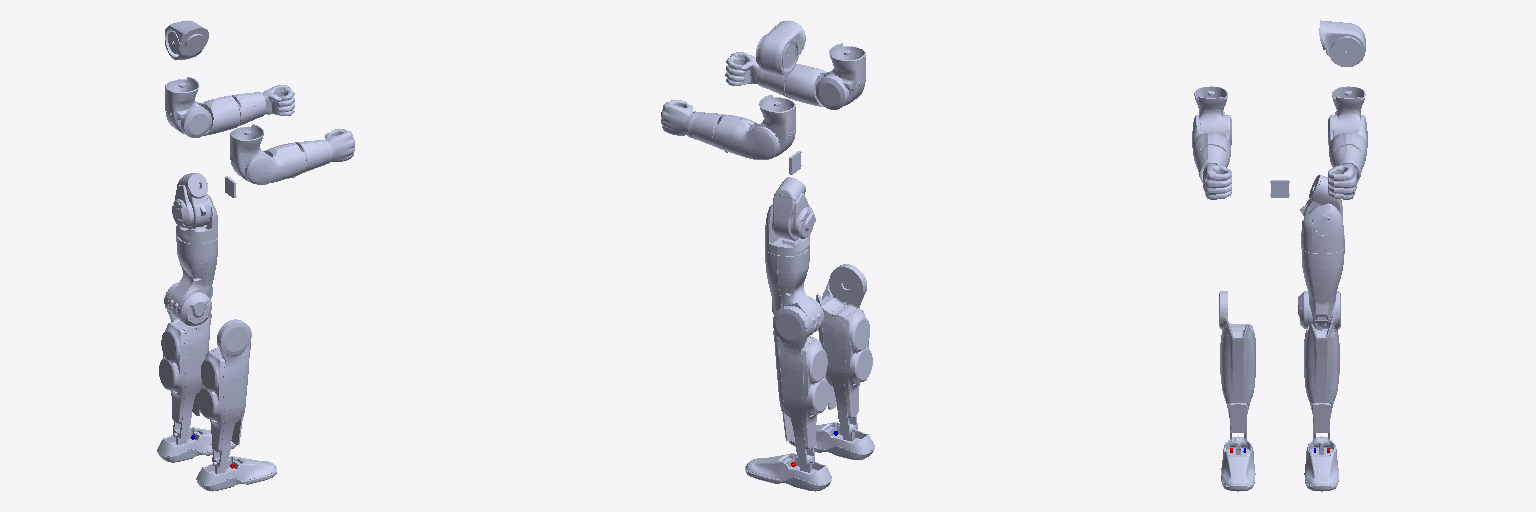
--- Facts derived from the render (not from the file) ---
Views: 3 orthographic renders of the robot side by side, from view 1: azimuth 30°, elevation 25°; view 2: azimuth 150°, elevation 25°; view 3: azimuth 270°, elevation 25°.
Model R1_AIR with 34 links and 33 joints (20 revolute, 13 fixed), rooted at pelvis_link, posed every joint at zero.
Links seen in each view (by area): view 1: right_knee_link, left_knee_link, right_elbow_link, left_hip_yaw_link, left_elbow_link, left_shoulder_yaw_link, left_hip_pitch_link, right_ankle_roll_link, left_shoulder_pitch_link, left_ankle_roll_link, right_shoulder_yaw_link, left_hip_roll_link; view 2: right_knee_link, left_knee_link, left_elbow_link, right_elbow_link, left_hip_yaw_link, right_shoulder_yaw_link, left_hip_pitch_link, left_shoulder_pitch_link, left_ankle_roll_link, right_ankle_roll_link, left_shoulder_yaw_link, left_hip_roll_link; view 3: right_knee_link, left_knee_link, left_hip_yaw_link, left_elbow_link, right_elbow_link, left_hip_roll_link, left_shoulder_pitch_link, left_shoulder_yaw_link, right_shoulder_yaw_link, left_ankle_roll_link, right_ankle_roll_link, left_hip_pitch_link.
Boxes of the visible links, x1,y1,x2,y2 form: right_knee_link: (198,319,251,469); left_knee_link: (159,281,211,440); right_elbow_link: (246,129,354,184); left_hip_yaw_link: (168,236,217,326); left_elbow_link: (197,85,294,135); left_shoulder_yaw_link: (165,77,211,137); left_hip_pitch_link: (172,173,211,228); right_ankle_roll_link: (196,456,276,491); left_shoulder_pitch_link: (165,20,208,59); left_ankle_roll_link: (157,427,236,462); right_shoulder_yaw_link: (230,124,267,181); left_hip_roll_link: (176,194,217,243); right_knee_link: (816,264,872,436); left_knee_link: (773,306,829,467); left_elbow_link: (661,100,778,159); right_elbow_link: (725,52,832,106); left_hip_yaw_link: (765,249,823,336); right_shoulder_yaw_link: (816,43,865,109); left_hip_pitch_link: (772,177,815,240); left_shoulder_pitch_link: (756,20,805,75); left_ankle_roll_link: (745,453,831,491); right_ankle_roll_link: (789,422,874,459); left_shoulder_yaw_link: (755,95,795,156); left_hip_roll_link: (765,204,809,255); right_knee_link: (1219,291,1255,446); left_knee_link: (1304,291,1340,446); left_hip_yaw_link: (1298,245,1344,330); left_elbow_link: (1328,115,1367,199); right_elbow_link: (1192,115,1231,199); left_hip_roll_link: (1301,203,1344,253); left_shoulder_pitch_link: (1319,20,1365,66); left_shoulder_yaw_link: (1328,86,1365,144); right_shoulder_yaw_link: (1194,86,1231,144); left_ankle_roll_link: (1304,440,1338,491); right_ankle_roll_link: (1221,440,1255,491); left_hip_pitch_link: (1300,175,1342,219).
Size in the robot's own frame: 0.3604 by 0.3624 by 1.03 metres.
22 mesh visuals loaded from 34 distinct referenced files (22 binary STL); not drawn: 12 (reference not matched to a file when rendering).

robot.urdf — R1_AIR:
<robot name="R1_AIR">
  <mujoco>
    <compiler meshdir="meshes" discardvisual="false"/>
  </mujoco>


  <link name="pelvis_link">
    <inertial>
      <origin xyz="0.030305 0.001648 0.202416" rpy="0 0 0"/>
      <mass value="6.988703"/>
      <inertia ixx="0.120638" ixy="0.000112" ixz="-0.001343" iyy="0.113439" iyz="0.000472" izz="0.020835"/>
    </inertial>
    <visual>
      <origin xyz="0 0 0" rpy="0 0 0"/>
      <geometry>
        <mesh filename="meshes/pelvis_link.stl"/>
      </geometry>
      <material name="blue">
        <color rgba="0.79216 0.81961 0.93333 1"/>
      </material>
    </visual>
    <collision>
      <origin xyz="0 0 0" rpy="0 0 0"/>
      <geometry>
        <mesh filename="meshes/pelvis_link.stl"/>
      </geometry>
    </collision>
  </link>


  <link name="left_hip_pitch_link">
    <inertial>
      <origin xyz="-0.003907 0.0415 -0.043716" rpy="0 0 0"/>
      <mass value="0.935482"/>
      <inertia ixx="0.001046" ixy="2.2e-05" ixz="-3.1e-05" iyy="0.000943" iyz="0.000145" izz="0.000624"/>
    </inertial>
    <visual>
      <origin xyz="0 0 0" rpy="0 0 0"/>
      <geometry>
        <mesh filename="meshes/left_hip_pitch_link.STL"/>
      </geometry>
      <material name="blue">
        <color rgba="0.79216 0.81961 0.93333 1"/>
      </material>
    </visual>
    <collision>
      <origin xyz="0 0 0" rpy="0 0 0"/>
      <geometry>
        <mesh filename="meshes/left_hip_pitch_link.STL"/>
      </geometry>
    </collision>
  </link>
  <joint name="left_hip_pitch_joint" type="revolute">
    <origin xyz="0.0325000000000034 0.0704672446672152 -0.0902350676234607" rpy="-0.436332312998619 0 0"/>
    <parent link="pelvis_link"/>
    <child link="left_hip_pitch_link"/>
    <axis xyz="0 1 0"/>
    <limit lower="-2.932153143" upper="2.548180708" effort="60" velocity="18.8"/>
  </joint>
  <link name="left_hip_roll_link">
    <inertial>
      <origin xyz="-0.008002 -0.00206 -0.032798" rpy="0 0 0"/>
      <mass value="0.207609"/>
      <inertia ixx="0.000246" ixy="-1.3e-05" ixz="-5.6e-05" iyy="0.000231" iyz="-1e-05" izz="0.000239"/>
    </inertial>
    <visual>
      <origin xyz="0 0 0" rpy="0 0 0"/>
      <geometry>
        <mesh filename="meshes/left_hip_roll_link.STL"/>
      </geometry>
      <material name="blue">
        <color rgba="0.79216 0.81961 0.93333 1"/>
      </material>
    </visual>
    <collision>
      <origin xyz="0 0 0" rpy="0 0 0"/>
      <geometry>
        <mesh filename="meshes/left_hip_roll_link.STL"/>
      </geometry>
    </collision>
  </link>
  <joint name="left_hip_roll_joint" type="revolute">
    <origin xyz="0.0248000000000053 0.0449999999999981 -0.0530000000000006" rpy="0.436332312998619 0 0"/>
    <parent link="left_hip_pitch_link"/>
    <child link="left_hip_roll_link"/>
    <axis xyz="1 0 0"/>
    <limit lower="-1.047197551" upper="1.745329252" effort="60" velocity="18.8"/>
  </joint>
  <link name="left_hip_yaw_link">
    <inertial>
      <origin xyz="-0.010059 -0.004848 -0.093609" rpy="0 0 0"/>
      <mass value="1.73967"/>
      <inertia ixx="0.008099" ixy="-0.000112" ixz="-0.001134" iyy="0.008338" iyz="-0.00058" izz="0.001513"/>
    </inertial>
    <visual>
      <origin xyz="0 0 0" rpy="0 0 0"/>
      <geometry>
        <mesh filename="meshes/left_hip_yaw_link.STL"/>
      </geometry>
      <material name="blue">
        <color rgba="0.79216 0.81961 0.93333 1"/>
      </material>
    </visual>
    <collision>
      <origin xyz="0 0 0" rpy="0 0 0"/>
      <geometry>
        <mesh filename="meshes/left_hip_yaw_link.STL"/>
      </geometry>
    </collision>
  </link>
  <joint name="left_hip_yaw_joint" type="revolute">
    <origin xyz="-0.0194507071014726 -0.000599999999990775 -0.0617999999999937" rpy="0 0 0"/>
    <parent link="left_hip_roll_link"/>
    <child link="left_hip_yaw_link"/>
    <axis xyz="0 0 1"/>
    <limit lower="-2.7402" upper="2.7402" effort="60" velocity="18.8"/>
  </joint>
  <link name="left_knee_link">
    <inertial>
      <origin xyz="-0.010632 -0.018101 -0.135947" rpy="0 0 0"/>
      <mass value="2.26585"/>
      <inertia ixx="0.01237" ixy="-4.4e-05" ixz="-0.000238" iyy="0.012604" iyz="-0.000603" izz="0.001907"/>
    </inertial>
    <visual>
      <origin xyz="0 0 0" rpy="0 0 0"/>
      <geometry>
        <mesh filename="meshes/left_knee_link.STL"/>
      </geometry>
      <material name="blue">
        <color rgba="0.79216 0.81961 0.93333 1"/>
      </material>
    </visual>
    <collision>
      <origin xyz="0 0 0" rpy="0 0 0"/>
      <geometry>
        <mesh filename="meshes/left_knee_collision.STL"/>
      </geometry>
    </collision>
  </link>
  <joint name="left_knee_joint" type="revolute">
    <origin xyz="-0.0231499999999827 0.0186600000000101 -0.159300730044995" rpy="0 0 0"/>
    <parent link="left_hip_yaw_link"/>
    <child link="left_knee_link"/>
    <axis xyz="0 1 0"/>
    <limit lower="-0.174532925" upper="2.42600766" effort="60" velocity="18.8"/>
  </joint>
  <link name="left_ankle_A_link">
    <inertial>
      <origin xyz="0.002876 0.004712 -0.001192" rpy="0 0 0"/>
      <mass value="0.047549"/>
      <inertia ixx="1.4e-05" ixy="0" ixz="0" iyy="6e-06" iyz="1e-06" izz="9e-06"/>
    </inertial>
    <visual>
      <origin xyz="0 0 0" rpy="0 0 0"/>
      <geometry>
        <mesh filename="meshes/left_ankle_A_link.STL"/>
      </geometry>
      <material name="A">
        <color rgba="1 0 0 1"/>
      </material>
    </visual>
    <collision>
      <origin xyz="0 0 0" rpy="0 0 0"/>
      <geometry>
        <mesh filename="meshes/left_ankle_A_link.STL"/>
      </geometry>
    </collision>
  </link>
  <joint name="left_ankle_A_joint" type="fixed">
    <origin xyz="0.0137908367226444 -0.020581073000019 -0.0965262033774272" rpy="0 0.0893608577021168 0"/>
    <parent link="left_knee_link"/>
    <child link="left_ankle_A_link"/>
    <axis xyz="1 0 0"/>
    <limit lower="-0.89675" upper="1.4099" effort="33" velocity="33.4"/>
  </joint>
  <link name="left_ankle_A_rod_link">
    <inertial>
      <origin xyz="0 0 0" rpy="0 0 0"/>
      <mass value="0.006909"/>
      <inertia ixx="1e-11" ixy="0" ixz="0" iyy="1e-11" iyz="0" izz="1e-11"/>
    </inertial>
    <visual>
      <origin xyz="0 0 0" rpy="0 0 0"/>
      <geometry>
        <mesh filename="meshes/left_ankle_A_rod_link.STL"/>
      </geometry>
      <material name="A">
        <color rgba="1 0 0 1"/>
      </material>
    </visual>
  </link>
  <joint name="left_ankle_A_rod_joint" type="fixed">
    <origin xyz="0.0129999999999986 0.0159961931559284 -0.00404620865977823" rpy="0 0 0"/>
    <parent link="left_ankle_A_link"/>
    <child link="left_ankle_A_rod_link"/>
    <axis xyz="1 0 0"/>
    <limit lower="0" upper="0" effort="0" velocity="0"/>
  </joint>
  <link name="left_ankle_B_link">
    <inertial>
      <origin xyz="0.002876 -0.004711 -0.001195" rpy="0 0 0"/>
      <mass value="0.047549"/>
      <inertia ixx="1.4e-05" ixy="0" ixz="0" iyy="6e-06" iyz="-1e-06" izz="9e-06"/>
    </inertial>
    <visual>
      <origin xyz="0 0 0" rpy="0 0 0"/>
      <geometry>
        <mesh filename="meshes/left_ankle_B_link.STL"/>
      </geometry>
      <material name="B">
        <color rgba="0 0 1 1"/>
      </material>
    </visual>
    <collision>
      <origin xyz="0 0 0" rpy="0 0 0"/>
      <geometry>
        <mesh filename="meshes/left_ankle_B_link.STL"/>
      </geometry>
    </collision>
  </link>
  <joint name="left_ankle_B_joint" type="fixed">
    <origin xyz="0.0078562453629065 -0.0205810730000191 -0.162760866676519" rpy="0 0.0893608577021174 0"/>
    <parent link="left_knee_link"/>
    <child link="left_ankle_B_link"/>
    <axis xyz="1 0 0"/>
    <limit lower="-1.3999" upper="0.92328" effort="33" velocity="33.4"/>
  </joint>
  <link name="left_ankle_B_rod_link">
    <inertial>
      <origin xyz="0 0 0" rpy="0 0 0"/>
      <mass value="0.006909"/>
      <inertia ixx="1e-11" ixy="0" ixz="0" iyy="1e-11" iyz="0" izz="1e-11"/>
    </inertial>
    <visual>
      <origin xyz="0 0 0" rpy="0 0 0"/>
      <geometry>
        <mesh filename="meshes/left_ankle_B_rod_link.STL"/>
      </geometry>
      <material name="B">
        <color rgba="0 0 1 1"/>
      </material>
    </visual>
  </link>
  <joint name="left_ankle_B_rod_joint" type="fixed">
    <origin xyz="0.0129999999999971 -0.0159932565774738 -0.00405780039512127" rpy="0 0 0"/>
    <parent link="left_ankle_B_link"/>
    <child link="left_ankle_B_rod_link"/>
    <axis xyz="1 0 0"/>
    <limit lower="0" upper="0" effort="0" velocity="0"/>
  </joint>
  <link name="left_ankle_pitch_link">
    <inertial>
      <origin xyz="-0.000104 0 -0.00772" rpy="0 0 0"/>
      <mass value="0.071231"/>
      <inertia ixx="7e-06" ixy="0" ixz="0" iyy="1.2e-05" iyz="0" izz="7e-06"/>
    </inertial>
    <visual>
      <origin xyz="0 0 0" rpy="0 0 0"/>
      <geometry>
        <mesh filename="meshes/left_ankle_pitch_link.STL"/>
      </geometry>
      <material name="blue">
        <color rgba="0.79216 0.81961 0.93333 1"/>
      </material>
    </visual>
  </link>
  <joint name="left_ankle_pitch_joint" type="revolute">
    <origin xyz="-0.0168138890944356 -0.0205810730000241 -0.309174756016388" rpy="0 0 0"/>
    <parent link="left_knee_link"/>
    <child link="left_ankle_pitch_link"/>
    <axis xyz="0 1 0"/>
    <limit lower="-0.87266" upper="0.57596" effort="50" velocity="30"/>
  </joint>
  <link name="left_ankle_roll_link">
    <inertial>
      <origin xyz="0.029823 0 -0.033123" rpy="0 0 0"/>
      <mass value="0.473048"/>
      <inertia ixx="0.000232" ixy="0" ixz="8.9e-05" iyy="0.001207" iyz="0" izz="0.001259"/>
    </inertial>
    <visual>
      <origin xyz="0 0 0" rpy="0 0 0"/>
      <geometry>
        <mesh filename="meshes/left_ankle_roll_link.STL"/>
      </geometry>
      <material name="blue">
        <color rgba="0.79216 0.81961 0.93333 1"/>
      </material>
    </visual>
    <collision>
      <origin xyz="0 0 0" rpy="0 0 0"/>
      <geometry>
        <mesh filename="meshes/left_ankle_roll_link.STL"/>
      </geometry>
    </collision>
  </link>
  <joint name="left_ankle_roll_joint" type="revolute">
    <origin xyz="0 0 0" rpy="0 0 0"/>
    <parent link="left_ankle_pitch_link"/>
    <child link="left_ankle_roll_link"/>
    <axis xyz="1 0 0"/>
    <limit lower="-0.2618" upper="0.2618" effort="50" velocity="30"/>
  </joint>
  <link name="left_ankle_constraint_A_link">
    <inertial>
      <origin xyz="0 0 0" rpy="0 0 0"/>
      <mass value="0.00432"/>
      <inertia ixx="1e-11" ixy="0" ixz="0" iyy="1e-11" iyz="0" izz="1e-11"/>
    </inertial>
    <visual>
      <origin xyz="0 0 0" rpy="0 0 0"/>
      <geometry>
        <mesh filename="meshes/left_ankle_constraint_A_link.STL"/>
      </geometry>
      <material name="A">
        <color rgba="1 0 0 1"/>
      </material>
    </visual>
    <collision>
      <origin xyz="0 0 0" rpy="0 0 0"/>
      <geometry>
        <mesh filename="meshes/left_ankle_constraint_A_link.STL"/>
      </geometry>
    </collision>
  </link>
  <joint name="left_ankle_constraint_A_joint" type="fixed">
    <origin xyz="0.021 0.014 -0.0094" rpy="0 0 0"/>
    <parent link="left_ankle_roll_link"/>
    <child link="left_ankle_constraint_A_link"/>
    <axis xyz="0 1 0"/>
    <limit lower="0" upper="0" effort="0" velocity="0"/>
  </joint>
  <link name="left_ankle_constraint_B_link">
    <inertial>
      <origin xyz="0 0 0" rpy="0 0 0"/>
      <mass value="0.00432"/>
      <inertia ixx="1e-11" ixy="0" ixz="0" iyy="1e-11" iyz="0" izz="1e-11"/>
    </inertial>
    <visual>
      <origin xyz="0 0 0" rpy="0 0 0"/>
      <geometry>
        <mesh filename="meshes/left_ankle_constraint_B_link.STL"/>
      </geometry>
      <material name="B">
        <color rgba="0 0 1 1"/>
      </material>
    </visual>
    <collision>
      <origin xyz="0 0 0" rpy="0 0 0"/>
      <geometry>
        <mesh filename="meshes/left_ankle_constraint_B_link.STL"/>
      </geometry>
    </collision>
  </link>
  <joint name="left_ankle_constraint_B_joint" type="fixed">
    <origin xyz="0.021 -0.014 -0.0094" rpy="0 0 0"/>
    <parent link="left_ankle_roll_link"/>
    <child link="left_ankle_constraint_B_link"/>
    <axis xyz="0 1 0"/>
    <limit lower="0" upper="0" effort="0" velocity="0"/>
  </joint>
  <link name="right_hip_pitch_link">
    <inertial>
      <origin xyz="-0.003907 -0.0415 -0.043716" rpy="0 0 0"/>
      <mass value="0.935482"/>
      <inertia ixx="0.001046" ixy="-2.2e-05" ixz="-3.1e-05" iyy="0.000943" iyz="-0.000145" izz="0.000624"/>
    </inertial>
    <visual>
      <origin xyz="0 0 0" rpy="0 0 0"/>
      <geometry>
        <mesh filename="meshes/right_hip_pitch_link.STL"/>
      </geometry>
      <material name="blue">
        <color rgba="0.79216 0.81961 0.93333 1"/>
      </material>
    </visual>
    <collision>
      <origin xyz="0 0 0" rpy="0 0 0"/>
      <geometry>
        <mesh filename="meshes/right_hip_pitch_link.STL"/>
      </geometry>
    </collision>
  </link>
  <joint name="right_hip_pitch_joint" type="revolute">
    <origin xyz="0.0324999999999944 -0.0704672446672271 -0.0902350676234561" rpy="0.436332312998556 0 0"/>
    <parent link="pelvis_link"/>
    <child link="right_hip_pitch_link"/>
    <axis xyz="0 1 0"/>
    <limit lower="-2.932153143" upper="2.548180708" effort="60" velocity="18.8"/>
  </joint>
  <link name="right_hip_roll_link">
    <inertial>
      <origin xyz="-0.008002 0.00206 -0.032798" rpy="0 0 0"/>
      <mass value="0.207609"/>
      <inertia ixx="0.000246" ixy="1.3e-05" ixz="-5.6e-05" iyy="0.000231" iyz="1e-05" izz="0.000239"/>
    </inertial>
    <visual>
      <origin xyz="0 0 0" rpy="0 0 0"/>
      <geometry>
        <mesh filename="meshes/right_hip_roll_link.STL"/>
      </geometry>
      <material name="blue">
        <color rgba="0.79216 0.81961 0.93333 1"/>
      </material>
    </visual>
    <collision>
      <origin xyz="0 0 0" rpy="0 0 0"/>
      <geometry>
        <mesh filename="meshes/right_hip_roll_link.STL"/>
      </geometry>
    </collision>
  </link>
  <joint name="right_hip_roll_joint" type="revolute">
    <origin xyz="0.0248000000000144 -0.044999999999989 -0.0530000000000113" rpy="-0.436332312998556 0 0"/>
    <parent link="right_hip_pitch_link"/>
    <child link="right_hip_roll_link"/>
    <axis xyz="1 0 0"/>
    <limit lower="-1.745329252" upper="1.047197551" effort="60" velocity="18.8"/>
  </joint>
  <link name="right_hip_yaw_link">
    <inertial>
      <origin xyz="-0.010059 0.004848 -0.093609" rpy="0 0 0"/>
      <mass value="1.73967"/>
      <inertia ixx="0.008099" ixy="0.000112" ixz="-0.001134" iyy="0.008338" iyz="0.00058" izz="0.001513"/>
    </inertial>
    <visual>
      <origin xyz="0 0 0" rpy="0 0 0"/>
      <geometry>
        <mesh filename="meshes/right_hip_yaw_link.STL"/>
      </geometry>
      <material name="blue">
        <color rgba="0.79216 0.81961 0.93333 1"/>
      </material>
    </visual>
    <collision>
      <origin xyz="0 0 0" rpy="0 0 0"/>
      <geometry>
        <mesh filename="meshes/right_hip_yaw_link.STL"/>
      </geometry>
    </collision>
  </link>
  <joint name="right_hip_yaw_joint" type="revolute">
    <origin xyz="-0.0194507071014726 0.000599999999990622 -0.0617999999999935" rpy="0 0 0"/>
    <parent link="right_hip_roll_link"/>
    <child link="right_hip_yaw_link"/>
    <axis xyz="0 0 1"/>
    <limit lower="-2.7402" upper="2.7402" effort="60" velocity="18.8"/>
  </joint>
  <link name="right_knee_link">
    <inertial>
      <origin xyz="-0.010632 0.018101 -0.135947" rpy="0 0 0"/>
      <mass value="2.26585"/>
      <inertia ixx="0.01237" ixy="4.4e-05" ixz="-0.000238" iyy="0.012604" iyz="0.000603" izz="0.001907"/>
    </inertial>
    <visual>
      <origin xyz="0 0 0" rpy="0 0 0"/>
      <geometry>
        <mesh filename="meshes/right_knee_link.STL"/>
      </geometry>
      <material name="blue">
        <color rgba="0.79216 0.81961 0.93333 1"/>
      </material>
    </visual>
    <collision>
      <origin xyz="0 0 0" rpy="0 0 0"/>
      <geometry>
        <mesh filename="meshes/right_knee_collision.STL"/>
      </geometry>
    </collision>
  </link>
  <joint name="right_knee_joint" type="revolute">
    <origin xyz="-0.0231499999999827 -0.0186600000000101 -0.159300730044995" rpy="0 0 0"/>
    <parent link="right_hip_yaw_link"/>
    <child link="right_knee_link"/>
    <axis xyz="0 1 0"/>
    <limit lower="-0.17453" upper="2.42600766" effort="60" velocity="18.8"/>
  </joint>
  <link name="right_ankle_A_link">
    <inertial>
      <origin xyz="0.002876 -0.004712 -0.001192" rpy="0 0 0"/>
      <mass value="0.047549"/>
      <inertia ixx="1.4e-05" ixy="0" ixz="0" iyy="6e-06" iyz="-1e-06" izz="9e-06"/>
    </inertial>
    <visual>
      <origin xyz="0 0 0" rpy="0 0 0"/>
      <geometry>
        <mesh filename="meshes/right_ankle_A_link.STL"/>
      </geometry>
      <material name="A">
        <color rgba="1 0 0 1"/>
      </material>
    </visual>
    <collision>
      <origin xyz="0 0 0" rpy="0 0 0"/>
      <geometry>
        <mesh filename="meshes/right_ankle_A_link.STL"/>
      </geometry>
    </collision>
  </link>
  <joint name="right_ankle_A_joint" type="fixed">
    <origin xyz="0.0137908367226438 0.0205810730000096 -0.0965262033774182" rpy="0 0.0893608577021168 0"/>
    <parent link="right_knee_link"/>
    <child link="right_ankle_A_link"/>
    <axis xyz="1 0 0"/>
    <limit lower="-1.4099" upper="0.89675" effort="33" velocity="33.4"/>
  </joint>
  <link name="right_ankle_A_rod_link">
    <inertial>
      <origin xyz="0 0 0" rpy="0 0 0"/>
      <mass value="0.006909"/>
      <inertia ixx="1e-11" ixy="0" ixz="0" iyy="1e-11" iyz="0" izz="1e-11"/>
    </inertial>
    <visual>
      <origin xyz="0 0 0" rpy="0 0 0"/>
      <geometry>
        <mesh filename="meshes/right_ankle_A_rod_link.STL"/>
      </geometry>
      <material name="A">
        <color rgba="1 0 0 1"/>
      </material>
    </visual>
  </link>
  <joint name="right_ankle_A_rod_joint" type="fixed">
    <origin xyz="0.0130000000000001 -0.0159961931559189 -0.00404620865978778" rpy="0 0 0"/>
    <parent link="right_ankle_A_link"/>
    <child link="right_ankle_A_rod_link"/>
    <axis xyz="1 0 0"/>
    <limit lower="0" upper="0" effort="0" velocity="0"/>
  </joint>
  <link name="right_ankle_B_link">
    <inertial>
      <origin xyz="0.002876 0.004711 -0.001195" rpy="0 0 0"/>
      <mass value="0.047549"/>
      <inertia ixx="1.4e-05" ixy="0" ixz="0" iyy="6e-06" iyz="1e-06" izz="9e-06"/>
    </inertial>
    <visual>
      <origin xyz="0 0 0" rpy="0 0 0"/>
      <geometry>
        <mesh filename="meshes/right_ankle_B_link.STL"/>
      </geometry>
      <material name="B">
        <color rgba="0 0 1 1"/>
      </material>
    </visual>
    <collision>
      <origin xyz="0 0 0" rpy="0 0 0"/>
      <geometry>
        <mesh filename="meshes/right_ankle_B_link.STL"/>
      </geometry>
    </collision>
  </link>
  <joint name="right_ankle_B_joint" type="fixed">
    <origin xyz="0.00785624536290441 0.0205810730000075 -0.16276086667651" rpy="0 0.0893608577021174 0"/>
    <parent link="right_knee_link"/>
    <child link="right_ankle_B_link"/>
    <axis xyz="1 0 0"/>
    <limit lower="-0.92328" upper="1.3999" effort="33" velocity="33.4"/>
  </joint>
  <link name="right_ankle_B_rod_link">
    <inertial>
      <origin xyz="0 0 0" rpy="0 0 0"/>
      <mass value="0.006909"/>
      <inertia ixx="1e-11" ixy="0" ixz="0" iyy="1e-11" iyz="0" izz="1e-11"/>
    </inertial>
    <visual>
      <origin xyz="0 0 0" rpy="0 0 0"/>
      <geometry>
        <mesh filename="meshes/right_ankle_B_rod_link.STL"/>
      </geometry>
      <material name="B">
        <color rgba="0 0 1 1"/>
      </material>
    </visual>
  </link>
  <joint name="right_ankle_B_rod_joint" type="fixed">
    <origin xyz="0.0130000000000001 0.0159932565774854 -0.00405780039513126" rpy="0 0 0"/>
    <parent link="right_ankle_B_link"/>
    <child link="right_ankle_B_rod_link"/>
    <axis xyz="1 0 0"/>
    <limit lower="0" upper="0" effort="0" velocity="0"/>
  </joint>
  <link name="right_ankle_pitch_link">
    <inertial>
      <origin xyz="-0.000104 0 -0.00772" rpy="0 0 0"/>
      <mass value="0.071231"/>
      <inertia ixx="7e-06" ixy="0" ixz="0" iyy="1.2e-05" iyz="0" izz="7e-06"/>
    </inertial>
    <visual>
      <origin xyz="0 0 0" rpy="0 0 0"/>
      <geometry>
        <mesh filename="meshes/right_ankle_pitch_link.STL"/>
      </geometry>
      <material name="blue">
        <color rgba="0.79216 0.81961 0.93333 1"/>
      </material>
    </visual>
  </link>
  <joint name="right_ankle_pitch_joint" type="revolute">
    <origin xyz="-0.016813889094435 0.0205810729999964 -0.309174756016406" rpy="0 0 0"/>
    <parent link="right_knee_link"/>
    <child link="right_ankle_pitch_link"/>
    <axis xyz="0 1 0"/>
    <limit lower="-0.87266" upper="0.57596" effort="50" velocity="30"/>
  </joint>
  <link name="right_ankle_roll_link">
    <inertial>
      <origin xyz="0.029823 0 -0.033123" rpy="0 0 0"/>
      <mass value="0.473048"/>
      <inertia ixx="0.000232" ixy="0" ixz="8.9e-05" iyy="0.001207" iyz="0" izz="0.001259"/>
    </inertial>
    <visual>
      <origin xyz="0 0 0" rpy="0 0 0"/>
      <geometry>
        <mesh filename="meshes/right_ankle_roll_link.STL"/>
      </geometry>
      <material name="blue">
        <color rgba="0.79216 0.81961 0.93333 1"/>
      </material>
    </visual>
    <collision>
      <origin xyz="0 0 0" rpy="0 0 0"/>
      <geometry>
        <mesh filename="meshes/right_ankle_roll_link.STL"/>
      </geometry>
    </collision>
  </link>
  <joint name="right_ankle_roll_joint" type="revolute">
    <origin xyz="0 0 0" rpy="0 0 0"/>
    <parent link="right_ankle_pitch_link"/>
    <child link="right_ankle_roll_link"/>
    <axis xyz="1 0 0"/>
    <limit lower="-0.261799388" upper="0.261799388" effort="50" velocity="30"/>
  </joint>
  <link name="right_ankle_constraint_A_link">
    <inertial>
      <origin xyz="0 0 0" rpy="0 0 0"/>
      <mass value="0.00432"/>
      <inertia ixx="1e-11" ixy="0" ixz="0" iyy="1e-11" iyz="0" izz="1e-11"/>
    </inertial>
    <visual>
      <origin xyz="0 0 0" rpy="0 0 0"/>
      <geometry>
        <mesh filename="meshes/right_ankle_constraint_A_link.STL"/>
      </geometry>
      <material name="A">
        <color rgba="1 0 0 1"/>
      </material>
    </visual>
    <collision>
      <origin xyz="0 0 0" rpy="0 0 0"/>
      <geometry>
        <mesh filename="meshes/right_ankle_constraint_A_link.STL"/>
      </geometry>
    </collision>
  </link>
  <joint name="right_ankle_constraint_A_joint" type="fixed">
    <origin xyz="0.021 -0.014 -0.0094" rpy="0 0 0"/>
    <parent link="right_ankle_roll_link"/>
    <child link="right_ankle_constraint_A_link"/>
    <axis xyz="0 1 0"/>
    <limit lower="0" upper="0" effort="0" velocity="0"/>
  </joint>
  <link name="right_ankle_constraint_B_link">
    <inertial>
      <origin xyz="0 0 0" rpy="0 0 0"/>
      <mass value="0.00432"/>
      <inertia ixx="1e-11" ixy="0" ixz="0" iyy="1e-11" iyz="0" izz="1e-11"/>
    </inertial>
    <visual>
      <origin xyz="0 0 0" rpy="0 0 0"/>
      <geometry>
        <mesh filename="meshes/right_ankle_constraint_B_link.STL"/>
      </geometry>
      <material name="B">
        <color rgba="0 0 1 1"/>
      </material>
    </visual>
    <collision>
      <origin xyz="0 0 0" rpy="0 0 0"/>
      <geometry>
        <mesh filename="meshes/right_ankle_constraint_B_link.STL"/>
      </geometry>
    </collision>
  </link>
  <joint name="right_ankle_constraint_B_joint" type="fixed">
    <origin xyz="0.021 0.014 -0.0094" rpy="0 0 0"/>
    <parent link="right_ankle_roll_link"/>
    <child link="right_ankle_constraint_B_link"/>
    <axis xyz="0 1 0"/>
    <limit lower="0" upper="0" effort="0" velocity="0"/>
  </joint>
  <link name="imu_in_pelvis_link">
    <inertial>
      <origin xyz="-0.001988 0.000572 0.014086" rpy="0 0 0"/>
      <mass value="0.00319"/>
      <inertia ixx="7.6e-07" ixy="0" ixz="0" iyy="3.9e-07" iyz="0" izz="3.8e-07"/>
    </inertial>
    <visual>
      <origin xyz="0 0 0" rpy="0 0 0"/>
      <geometry>
        <mesh filename="meshes/imu_in_pelvis_link.STL"/>
      </geometry>
      <material name="blue">
        <color rgba="0.79216 0.81961 0.93333 1"/>
      </material>
    </visual>
    <collision>
      <origin xyz="0 0 0" rpy="0 0 0"/>
      <geometry>
        <mesh filename="meshes/imu_in_pelvis_link.STL"/>
      </geometry>
    </collision>
  </link>
  <joint name="imu_in_pelvis_joint" type="fixed">
    <origin xyz="0.0762024823417637 2.19914456711555E-05 -0.0884314643766222" rpy="0 0 0"/>
    <parent link="pelvis_link"/>
    <child link="imu_in_pelvis_link"/>
    <axis xyz="1 0 0"/>
    <limit lower="0" upper="0" effort="0" velocity="0"/>
  </joint>


  <link name="left_shoulder_pitch_link">
    <inertial>
      <origin xyz="0.00294386 0.04476868 -0.02286868" rpy="0 0 0"/>
      <mass value="0.83794992"/>
      <inertia ixx="0.00066072" ixy="-0.00000492" ixz="0.00001580" iyy="0.00060170" iyz="0.00005557" izz="0.00057741"/>
    </inertial>
    <visual>
      <origin xyz="0 0 0" rpy="0 0 0"/>
      <geometry>
        <mesh filename="meshes/left_shoulder_pitch_link.stl"/>
      </geometry>
      <material name="blue">
        <color rgba="0.79216 0.81961 0.93333 1"/>
      </material>
    </visual>
    <collision>
      <origin xyz="0 0 0" rpy="0 0 0"/>
      <geometry>
        <mesh filename="meshes/left_shoulder_pitch_link.stl"/>
      </geometry>
    </collision>
  </link>
  <joint name="left_shoulder_pitch_joint" type="revolute">
    <origin xyz="0.0325 0.085687 0.24648" rpy="0.26187 0 0"/>
    <parent link="pelvis_link"/>
    <child link="left_shoulder_pitch_link"/>
    <axis xyz="0 1 0"/>
    <limit lower="-3.1416" upper="2.0944" effort="60" velocity="18.8"/>
  </joint>
  <link name="left_shoulder_roll_link">
    <inertial>
      <origin xyz="-0.037828 0.003967 -0.066496" rpy="0 0 0"/>
      <mass value="0.740212"/>
      <inertia ixx="0.000971" ixy="-0.000004" ixz="0.000101" iyy="0.001089" iyz="0.000022" izz="0.000573"/>
    </inertial>
    <visual>
      <origin xyz="0 0 0" rpy="0 0 0"/>
      <geometry>
        <mesh filename="meshes/left_shoulder_roll_link.stl"/>
      </geometry>
      <material name="blue">
        <color rgba="0.79216 0.81961 0.93333 1"/>
      </material>
    </visual>
    <collision>
      <origin xyz="0 0 0" rpy="0 0 0"/>
      <geometry>
        <mesh filename="meshes/left_shoulder_roll_link.stl"/>
      </geometry>
    </collision>
  </link>
  <joint name="left_shoulder_roll_joint" type="revolute">
    <origin xyz="0.0344500000000021 0.0471317325129909 -0.0256931311797859" rpy="-0.261872914022148 0 0"/>
    <parent link="left_shoulder_pitch_link"/>
    <child link="left_shoulder_roll_link"/>
    <axis xyz="1 0 0"/>
    <limit lower="-0.22689" upper="2.4784" effort="60" velocity="18.8"/>
  </joint>
  <link name="left_shoulder_yaw_link">
    <inertial>
      <origin xyz="0.013143 -0.004355 -0.072948" rpy="0 0 0"/>
      <mass value="0.738441"/>
      <inertia ixx="0.000829" ixy="0.000015" ixz="0.000108" iyy="0.000852" iyz="-0.000035" izz="0.000469"/>
    </inertial>
    <visual>
      <origin xyz="0 0 0" rpy="0 0 0"/>
      <geometry>
        <mesh filename="meshes/left_shoulder_yaw_link.stl"/>
      </geometry>
      <material name="blue">
        <color rgba="0.79216 0.81961 0.93333 1"/>
      </material>
    </visual>
    <collision>
      <origin xyz="0 0 0" rpy="0 0 0"/>
      <geometry>
        <mesh filename="meshes/left_shoulder_yaw_link.stl"/>
      </geometry>
    </collision>
  </link>
  <joint name="left_shoulder_yaw_joint" type="revolute">
    <origin xyz="-0.0344499999999999 0.004299999999997 -0.108349999999997" rpy="0 0 0"/>
    <parent link="left_shoulder_roll_link"/>
    <child link="left_shoulder_yaw_link"/>
    <axis xyz="0 0 1"/>
    <limit lower="-1.9199" upper="1.9199" effort="33" velocity="33.4"/>
  </joint>
  <link name="left_elbow_link">
    <inertial>
      <origin xyz="0.147283  -0.026821 -0.010613" rpy="0 0 0"/>
      <mass value="0.986213"/>
      <inertia ixx="0.000680" ixy="0.000581" ixz="-0.000026" iyy="0.005824" iyz="-0.000003" izz="0.005872"/>
    </inertial>
    <visual>
      <origin xyz="0 0 0" rpy="0 0 0"/>
      <geometry>
        <mesh filename="meshes/left_elbow_link.stl"/>
      </geometry>
      <material name="blue">
        <color rgba="0.79216 0.81961 0.93333 1"/>
      </material>
    </visual>
    <collision>
      <origin xyz="0 0 0" rpy="0 0 0"/>
      <geometry>
        <mesh filename="meshes/left_elbow_link.stl"/>
      </geometry>
    </collision>
  </link>
  <joint name="left_elbow_joint" type="revolute">
    <origin xyz="0.0161914697568633 0.026460525477912 -0.0828584390386664" rpy="0 0 0"/>
    <parent link="left_shoulder_yaw_link"/>
    <child link="left_elbow_link"/>
    <axis xyz="0 1 0"/>
    <limit lower="-0.97564" upper="2.1852" effort="33" velocity="33.4"/>
  </joint>
  <link name="right_shoulder_pitch_link">
    <inertial>
      <origin xyz="0.00294386 -0.04476868 -0.02286868" rpy="0 0 0"/>
      <mass value="0.83794992"/>
      <inertia ixx="0.00066072" ixy="0.00000492" ixz="0.00001580" iyy="0.00060170" iyz="-0.00005557" izz="0.00057741"/>
    </inertial>
    <visual>
      <origin xyz="0 0 0" rpy="0 0 0"/>
      <geometry>
        <mesh filename="meshes/right_shoulder_pitch_link.stl"/>
      </geometry>
      <material name="blue">
        <color rgba="0.79216 0.81961 0.93333 1"/>
      </material>
    </visual>
    <collision>
      <origin xyz="0 0 0" rpy="0 0 0"/>
      <geometry>
        <mesh filename="meshes/right_shoulder_pitch_link.stl"/>
      </geometry>
    </collision>
  </link>
  <joint name="right_shoulder_pitch_joint" type="revolute">
    <origin xyz="0.0325 -0.0856883430117966 0.246484432134515" rpy="-0.261872914022147 0 0"/>
    <parent link="pelvis_link"/>
    <child link="right_shoulder_pitch_link"/>
    <axis xyz="0 1 0"/>
    <limit lower="-3.1416" upper="2.0944" effort="60" velocity="18.8"/>
  </joint>
  <link name="right_shoulder_roll_link">
    <inertial>
      <origin xyz="-0.037828 -0.003967 -0.066496" rpy="0 0 0"/>
      <mass value="0.740212"/>
      <inertia ixx="0.000971" ixy="0.000004" ixz="0.000101" iyy="0.001089" iyz="-0.000022" izz="0.000573"/>
    </inertial>
    <visual>
      <origin xyz="0 0 0" rpy="0 0 0"/>
      <geometry>
        <mesh filename="meshes/right_shoulder_roll_link.stl"/>
      </geometry>
      <material name="blue">
        <color rgba="0.79216 0.81961 0.93333 1"/>
      </material>
    </visual>
    <collision>
      <origin xyz="0 0 0" rpy="0 0 0"/>
      <geometry>
        <mesh filename="meshes/right_shoulder_roll_link.stl"/>
      </geometry>
    </collision>
  </link>
  <joint name="right_shoulder_roll_joint" type="revolute">
    <origin xyz="0.0344500000000021 -0.0471317325129907 -0.0256931311797859" rpy="0.261872914022147 0 0"/>
    <parent link="right_shoulder_pitch_link"/>
    <child link="right_shoulder_roll_link"/>
    <axis xyz="1 0 0"/>
    <limit lower="-2.47849" upper="0.2268" effort="60" velocity="18.8"/>
  </joint>
  <link name="right_shoulder_yaw_link">
    <inertial>
      <origin xyz="0.013143 0.004355 -0.072948" rpy="0 0 0"/>
      <mass value="0.738441"/>
      <inertia ixx="0.000829" ixy="-0.000015" ixz="0.000108" iyy="0.000852" iyz="0.000035" izz="0.000469"/>
    </inertial>
    <visual>
      <origin xyz="0 0 0" rpy="0 0 0"/>
      <geometry>
        <mesh filename="meshes/right_shoulder_yaw_link.stl"/>
      </geometry>
      <material name="blue">
        <color rgba="0.79216 0.81961 0.93333 1"/>
      </material>
    </visual>
    <collision>
      <origin xyz="0 0 0" rpy="0 0 0"/>
      <geometry>
        <mesh filename="meshes/right_shoulder_yaw_link.stl"/>
      </geometry>
    </collision>
  </link>
  <joint name="right_shoulder_yaw_joint" type="revolute">
    <origin xyz="-0.0344500000000011 -0.004299999999997 -0.108349999999997" rpy="0 0 0"/>
    <parent link="right_shoulder_roll_link"/>
    <child link="right_shoulder_yaw_link"/>
    <axis xyz="0 0 1"/>
    <limit lower="-1.9199" upper="1.9199" effort="33" velocity="33.4"/>
  </joint>
  <link name="right_elbow_link">
    <inertial>
      <origin xyz="0.147283  0.026821 -0.010613" rpy="0 0 0"/>
      <mass value="0.986213"/>
      <inertia ixx="0.000680" ixy="-0.000581" ixz="-0.000026" iyy="0.005824" iyz="0.000003" izz="0.005872"/>
    </inertial>
    <visual>
      <origin xyz="0 0 0" rpy="0 0 0"/>
      <geometry>
        <mesh filename="meshes/right_elbow_link.stl"/>
      </geometry>
      <material name="blue">
        <color rgba="0.79216 0.81961 0.93333 1"/>
      </material>
    </visual>
    <collision>
      <origin xyz="0 0 0" rpy="0 0 0"/>
      <geometry>
        <mesh filename="meshes/right_elbow_link.stl"/>
      </geometry>
    </collision>
  </link>
  <joint name="right_elbow_joint" type="revolute">
    <origin xyz="0.0161914697568645 -0.026460525477912 -0.0828584390386664" rpy="0 0 0"/>
    <parent link="right_shoulder_yaw_link"/>
    <child link="right_elbow_link"/>
    <axis xyz="0 1 0"/>
    <limit lower="-0.97564" upper="2.1852" effort="33" velocity="33.4"/>
  </joint>
</robot>
